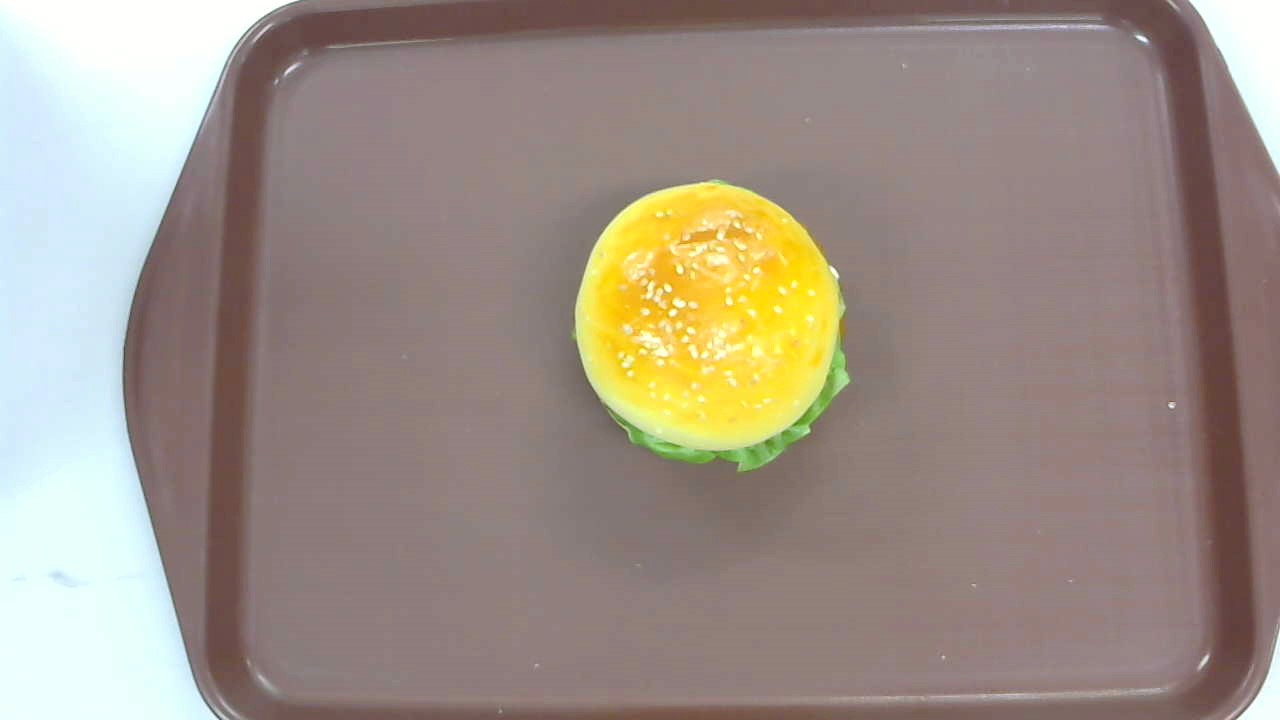hamburger: (573, 179, 851, 474)
